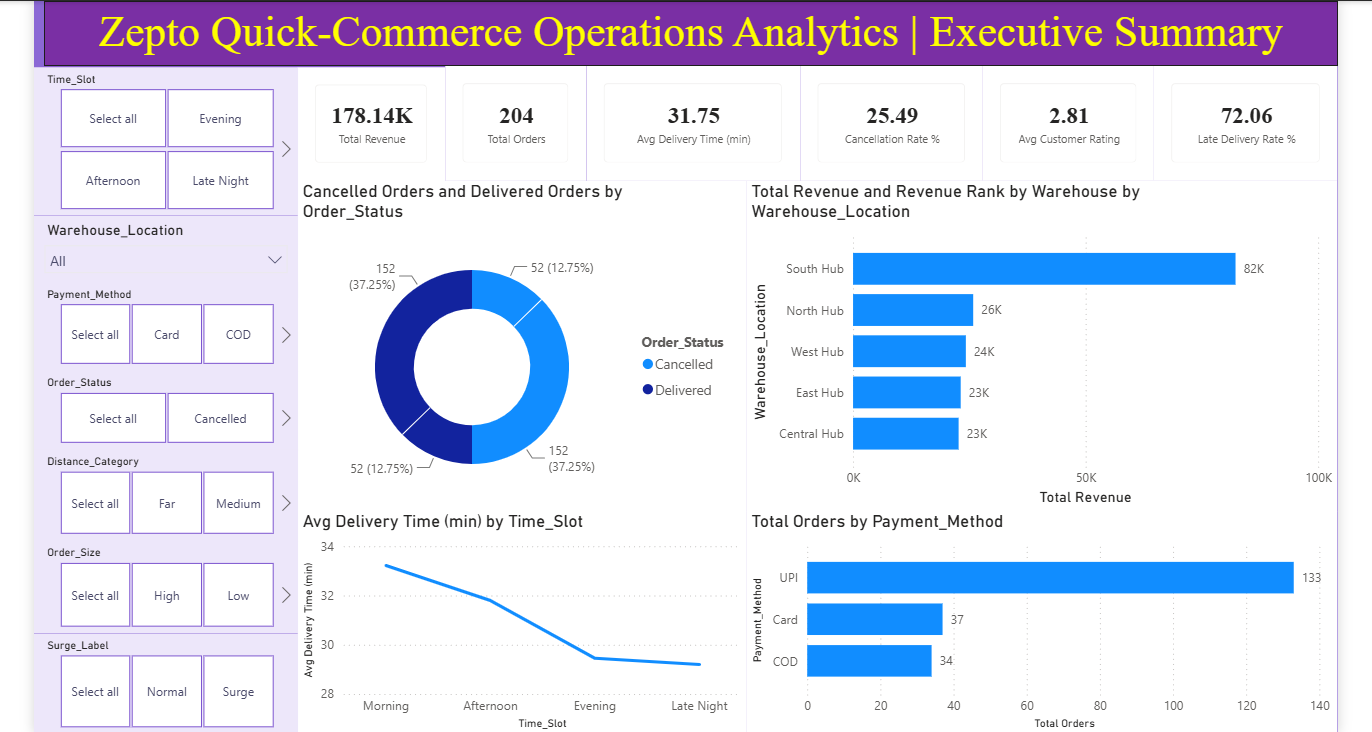

Layout of this report page (visuals, bound fields, positions):
{"tool":"powerbi","page":{"name":"Summary","canvas":[1280,720],"ordinal":0},"visuals":[{"type":"textbox","box":[9.8,0,1269.9,63.8],"z":0},{"type":"slicer","fields":{"Values":["zepto_cleaned.Time_Slot"]},"box":[0,65,258.9,145.9],"z":0,"group":"g1"},{"type":"cardVisual","fields":{"Data":["_Measures.Total Revenue"]},"box":[258.9,65,144.8,111.7],"z":1000},{"type":"slicer","fields":{"Values":["zepto_cleaned.Warehouse_Location"]},"box":[0,211.3,258.9,79.7],"z":1000,"group":"g1"},{"type":"cardVisual","fields":{"Data":["_Measures.Total Orders"]},"box":[403.7,63.8,138.7,112.9],"z":2000},{"type":"slicer","fields":{"Values":["zepto_cleaned.Payment_Method"]},"box":[0,276.3,258.9,87.1],"z":2000,"group":"g1"},{"type":"cardVisual","fields":{"Data":["_Measures.Avg Delivery Time (min)"]},"box":[542.3,63.8,209.8,112.9],"z":3000},{"type":"slicer","fields":{"Values":["zepto_cleaned.Order_Status"]},"box":[0,363.4,258.9,77.3],"z":3000,"group":"g1"},{"type":"cardVisual","fields":{"Data":["_Measures.Cancellation Rate %"]},"box":[752.2,63.8,179.1,112.9],"z":4000},{"type":"slicer","fields":{"Values":["zepto_cleaned.Distance_Category"]},"box":[0,440.6,258.9,89.5],"z":4000,"group":"g1"},{"type":"cardVisual","fields":{"Data":["_Measures.Avg Customer Rating"]},"box":[931.3,63.8,168.1,112.9],"z":5000},{"type":"slicer","fields":{"Values":["zepto_cleaned.Order_Size"]},"box":[0,530.1,258.9,90.7],"z":5000,"group":"g1"},{"type":"cardVisual","fields":{"Data":["_Measures.Late Delivery Rate %"]},"box":[1099.4,63.8,180.4,112.9],"z":6000},{"type":"slicer","fields":{"Values":["zepto_cleaned.Surge_Label"]},"box":[0,620.9,258.9,99.3],"z":6000,"group":"g1"},{"type":"donutChart","fields":{"Category":["zepto_cleaned.Order_Status"],"Y":["_Measures.Cancelled Orders","_Measures.Delivered Orders"]},"box":[258.9,176.7,440.5,323.9],"z":7000},{"type":"barChart","fields":{"Category":["zepto_cleaned.Warehouse_Location"],"Y":["_Measures.Total Revenue"]},"box":[699.4,176.7,580.4,323.9],"z":8000},{"type":"lineChart","fields":{"Y":["_Measures.Avg Delivery Time (min)"],"Category":["TimeSlot_Order.Time_Slot"]},"box":[258.9,500.6,440.5,219.6],"z":9000},{"type":"clusteredBarChart","fields":{"Y":["_Measures.Total Orders"],"Category":["zepto_cleaned.Payment_Method"]},"box":[699.4,500.6,580.4,219.6],"z":10000},{"type":"group","id":"g1","title":"Group 1","box":[0,65,258.9,655.2],"z":10008}]}

Visuals, with their boxes on the page's 1280x720 design canvas (x1, y1, x2, y2). These are canvas units, not pixel positions in the 1372x732 screenshot, which may show the page scaled, cropped or inside an application window:
textbox: bbox=[10, 0, 1280, 64]
slicer - zepto_cleaned.Time_Slot: bbox=[0, 65, 259, 211]
cardVisual - _Measures.Total Revenue: bbox=[259, 65, 404, 177]
slicer - zepto_cleaned.Warehouse_Location: bbox=[0, 211, 259, 291]
cardVisual - _Measures.Total Orders: bbox=[404, 64, 542, 177]
slicer - zepto_cleaned.Payment_Method: bbox=[0, 276, 259, 363]
cardVisual - _Measures.Avg Delivery Time (min): bbox=[542, 64, 752, 177]
slicer - zepto_cleaned.Order_Status: bbox=[0, 363, 259, 441]
cardVisual - _Measures.Cancellation Rate %: bbox=[752, 64, 931, 177]
slicer - zepto_cleaned.Distance_Category: bbox=[0, 441, 259, 530]
cardVisual - _Measures.Avg Customer Rating: bbox=[931, 64, 1099, 177]
slicer - zepto_cleaned.Order_Size: bbox=[0, 530, 259, 621]
cardVisual - _Measures.Late Delivery Rate %: bbox=[1099, 64, 1280, 177]
slicer - zepto_cleaned.Surge_Label: bbox=[0, 621, 259, 720]
donutChart - zepto_cleaned.Order_Status x _Measures.Cancelled Orders: bbox=[259, 177, 699, 501]
barChart - zepto_cleaned.Warehouse_Location x _Measures.Total Revenue: bbox=[699, 177, 1280, 501]
lineChart - _Measures.Avg Delivery Time (min) x TimeSlot_Order.Time_Slot: bbox=[259, 501, 699, 720]
clusteredBarChart - _Measures.Total Orders x zepto_cleaned.Payment_Method: bbox=[699, 501, 1280, 720]
"Group 1" group: bbox=[0, 65, 259, 720]
